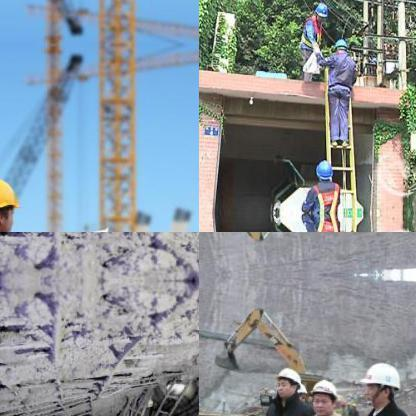Helmet: (360, 360, 402, 408), (0, 165, 23, 231), (307, 377, 337, 415), (274, 363, 300, 399), (314, 156, 334, 182), (310, 0, 330, 22), (332, 36, 348, 52)
